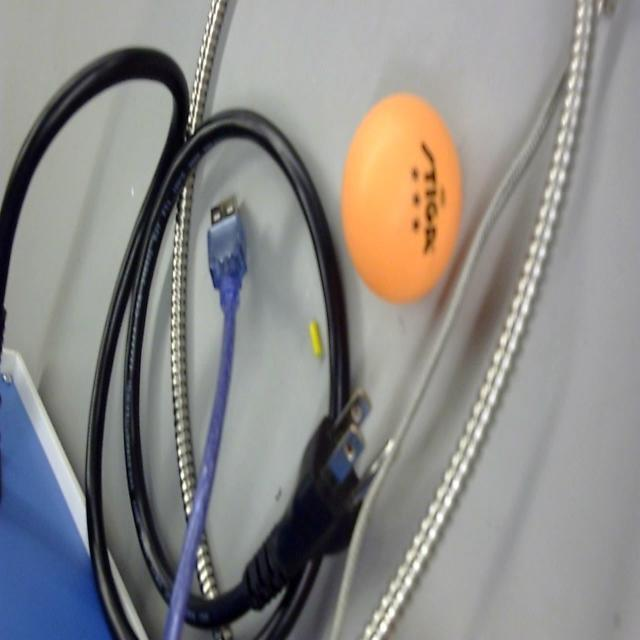ball: (338, 89, 464, 304)
